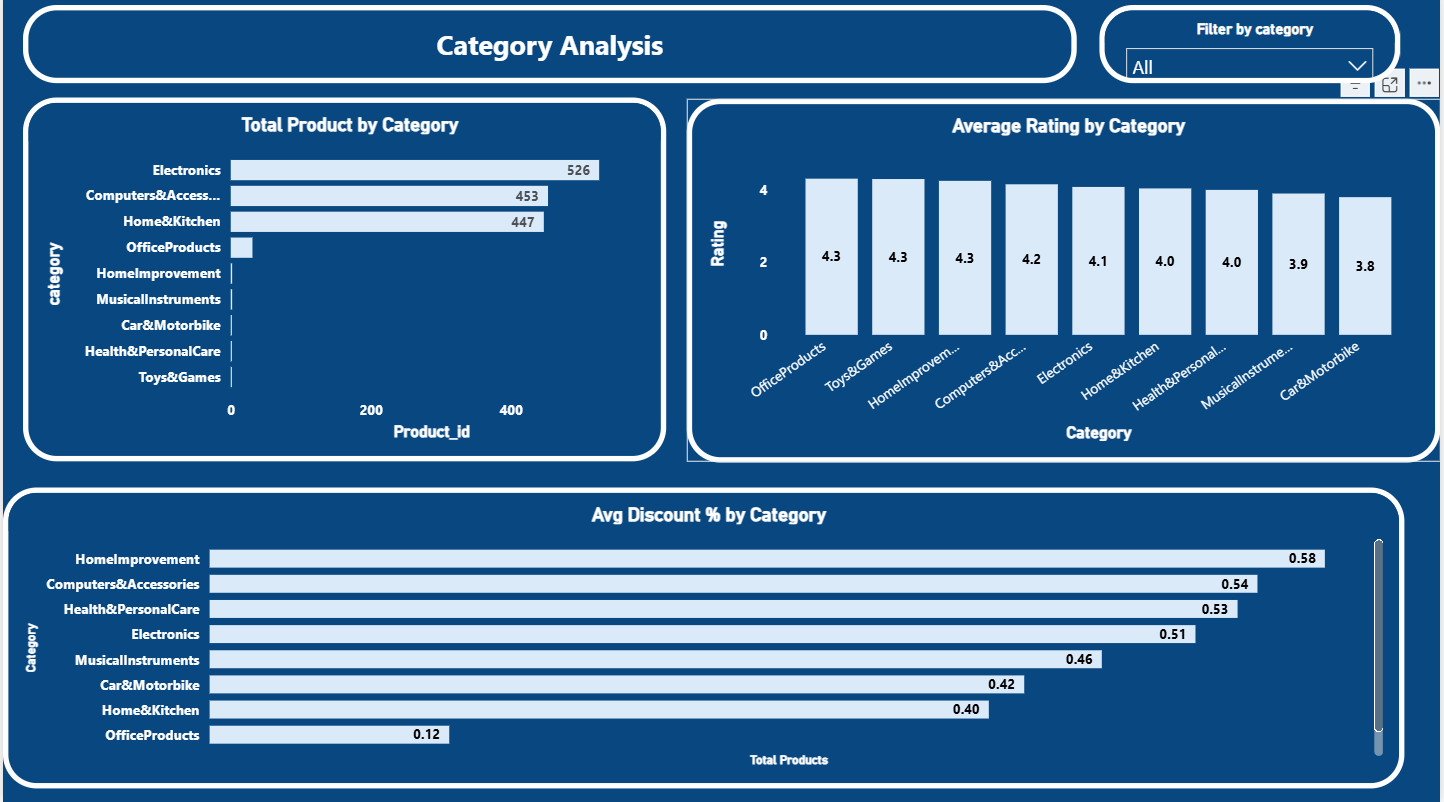

What the dashboard file says about the page in this screenshot:
{"tool":"powerbi","page":{"name":"Category Analysis 📦","canvas":[1280,720],"ordinal":1},"visuals":[{"type":"textbox","box":[17.5,9.4,938.7,69.9],"z":0},{"type":"clusteredBarChart","title":"Total Product by Category","fields":{"Y":["CountNonNull(amazon_db amazon_products.product_id)"],"Category":["amazon_db amazon_products.category"]},"box":[17.5,91.4,572.9,324.1],"z":1000},{"type":"clusteredColumnChart","title":"Average Rating by Category","fields":{"Category":["amazon_db amazon_products.category"],"Y":["Avg(amazon_db amazon_products.rating)"]},"box":[609.3,91.9,671,323.8],"z":2000},{"type":"clusteredBarChart","title":"Avg Discount % by Category","fields":{"Category":["amazon_db amazon_products.category"],"Y":["Avg(amazon_db amazon_products.discount_percentage)"]},"box":[0,438.4,1248,267.6],"z":3000},{"type":"slicer","title":"Filter by category","fields":{"Values":["amazon_db amazon_products.category"]},"box":[976.3,9.4,267.6,69.9],"z":4000}]}

Visuals, with their boxes in screenshot pixels (x1, y1, x2, y2), scaled from the page's 1280x720 canvas onto the 1444x802 screenshot:
textbox: (x1=20, y1=10, x2=1079, y2=88)
"Total Product by Category" clusteredBarChart: (x1=20, y1=102, x2=666, y2=463)
"Average Rating by Category" clusteredColumnChart: (x1=687, y1=102, x2=1443, y2=463)
"Avg Discount % by Category" clusteredBarChart: (x1=0, y1=488, x2=1408, y2=786)
"Filter by category" slicer: (x1=1101, y1=10, x2=1403, y2=88)
